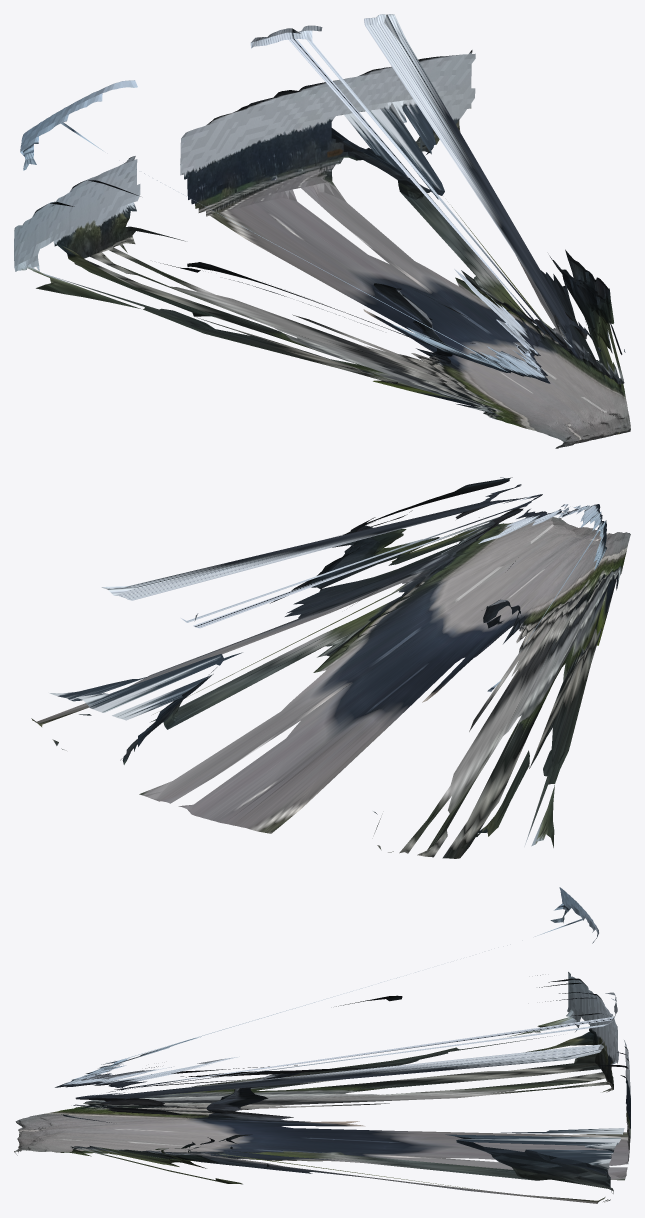
3 renders of one model, top to bottom at view 1: azimuth 30°, elevation 25°; view 2: azimuth 150°, elevation 25°; view 3: azimuth 270°, elevation 25°, orthographic. The views are drawn at different scales.
Parts seen in each view (by area): view 1: defaultobject; view 2: defaultobject; view 3: defaultobject.
Part boxes in pixels (left/top/right/bottom): defaultobject: left=14, top=14, right=630, bottom=448; defaultobject: left=31, top=477, right=630, bottom=858; defaultobject: left=14, top=887, right=630, bottom=1203.
Size of the model in its own units: 35.61 by 12.67 by 44.37.
Materials: 1 (1 with a texture image).
